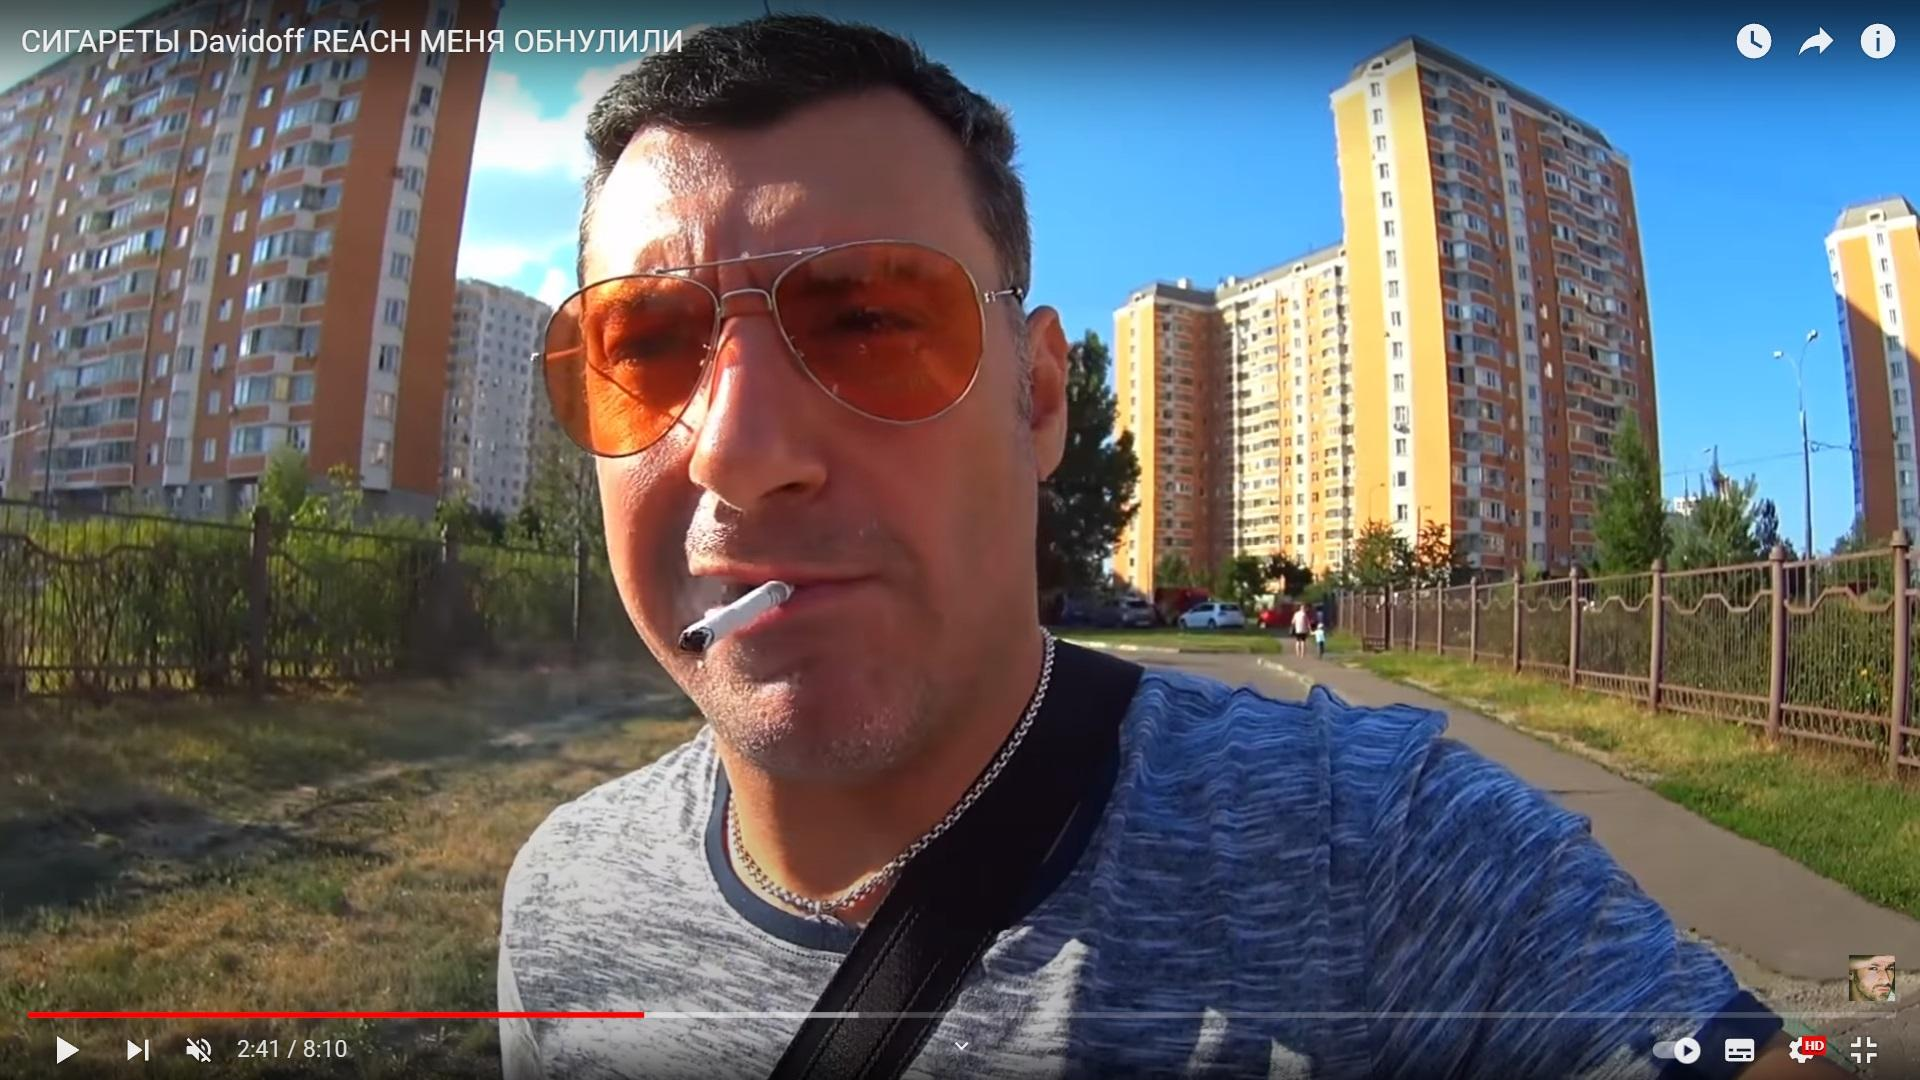cigarette: (679, 582, 795, 653)
